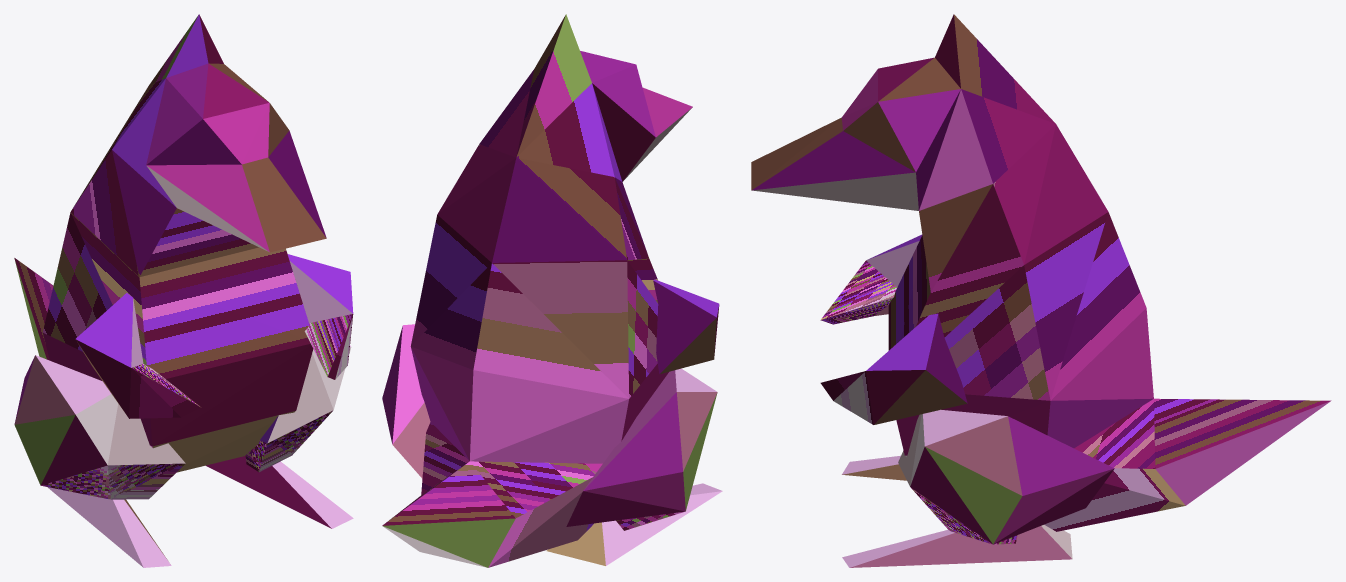
File: pikapoly.obj
3 renders of one model, left to right at view 1: azimuth 30°, elevation 25°; view 2: azimuth 150°, elevation 25°; view 3: azimuth 270°, elevation 25°, orthographic. The views are drawn at different scales.
Parts seen in each view (by area): view 1: Nemu_60999451_0_013, Nemu_60999451_0_010, Nemu_60999451_0_009, Nemu_60999451_0_019, Nemu_60999451_0_014, Nemu_60999451_0_018, Nemu_60999451_0_021, Nemu_60999451_0_020, Nemu_60999451_0_011, Nemu_60999451_0_016, Nemu_60999451_0_015, Nemu_60999451_0_012 (+2 smaller); view 2: Nemu_60999451_0_010, Nemu_60999451_0_013, Nemu_60999451_0_022, Nemu_60999451_0_009, Nemu_60999451_0_019, Nemu_60999451_0_014, Nemu_60999451_0_016, Nemu_60999451_0_021, Nemu_60999451_0_020; view 3: Nemu_60999451_0_013, Nemu_60999451_0_010, Nemu_60999451_0_016, Nemu_60999451_0_022, Nemu_60999451_0_009, Nemu_60999451_0_011, Nemu_60999451_0_018, Nemu_60999451_0_015, Nemu_60999451_0_012, Nemu_60999451_0_014, Nemu_60999451_0_021, Nemu_60999451_0_017.
Boxes of the visible parts, left/top/right/bottom form: Nemu_60999451_0_013: left=71, top=14, right=326, bottom=276; Nemu_60999451_0_010: left=42, top=212, right=310, bottom=378; Nemu_60999451_0_009: left=43, top=333, right=313, bottom=472; Nemu_60999451_0_019: left=14, top=355, right=185, bottom=485; Nemu_60999451_0_014: left=75, top=293, right=143, bottom=417; Nemu_60999451_0_018: left=206, top=455, right=353, bottom=528; Nemu_60999451_0_021: left=47, top=487, right=171, bottom=567; Nemu_60999451_0_020: left=41, top=463, right=185, bottom=499; Nemu_60999451_0_011: left=287, top=254, right=353, bottom=322; Nemu_60999451_0_016: left=260, top=345, right=351, bottom=443; Nemu_60999451_0_015: left=129, top=363, right=201, bottom=418; Nemu_60999451_0_012: left=304, top=314, right=353, bottom=379; Nemu_60999451_0_010: left=411, top=158, right=658, bottom=398; Nemu_60999451_0_013: left=437, top=14, right=692, bottom=260; Nemu_60999451_0_022: left=382, top=422, right=602, bottom=567; Nemu_60999451_0_009: left=411, top=346, right=668, bottom=463; Nemu_60999451_0_019: left=566, top=368, right=717, bottom=526; Nemu_60999451_0_014: left=653, top=279, right=719, bottom=374; Nemu_60999451_0_016: left=382, top=324, right=430, bottom=478; Nemu_60999451_0_021: left=546, top=483, right=722, bottom=565; Nemu_60999451_0_020: left=616, top=511, right=684, bottom=530; Nemu_60999451_0_013: left=751, top=14, right=1055, bottom=292; Nemu_60999451_0_010: left=888, top=124, right=1146, bottom=400; Nemu_60999451_0_016: left=898, top=409, right=1114, bottom=544; Nemu_60999451_0_022: left=1044, top=398, right=1331, bottom=531; Nemu_60999451_0_009: left=896, top=308, right=1153, bottom=456; Nemu_60999451_0_011: left=866, top=313, right=967, bottom=424; Nemu_60999451_0_018: left=842, top=525, right=1072, bottom=567; Nemu_60999451_0_015: left=820, top=261, right=897, bottom=324; Nemu_60999451_0_012: left=820, top=371, right=873, bottom=424; Nemu_60999451_0_014: left=866, top=234, right=922, bottom=315; Nemu_60999451_0_021: left=842, top=455, right=906, bottom=480; Nemu_60999451_0_017: left=911, top=488, right=1017, bottom=544.
Size of the model in its own units: 0.2323 by 0.3627 by 0.3782.
